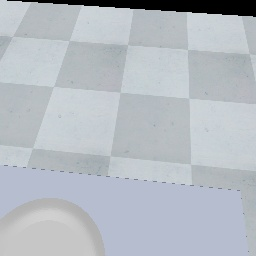Plate: (0, 195, 107, 256)
